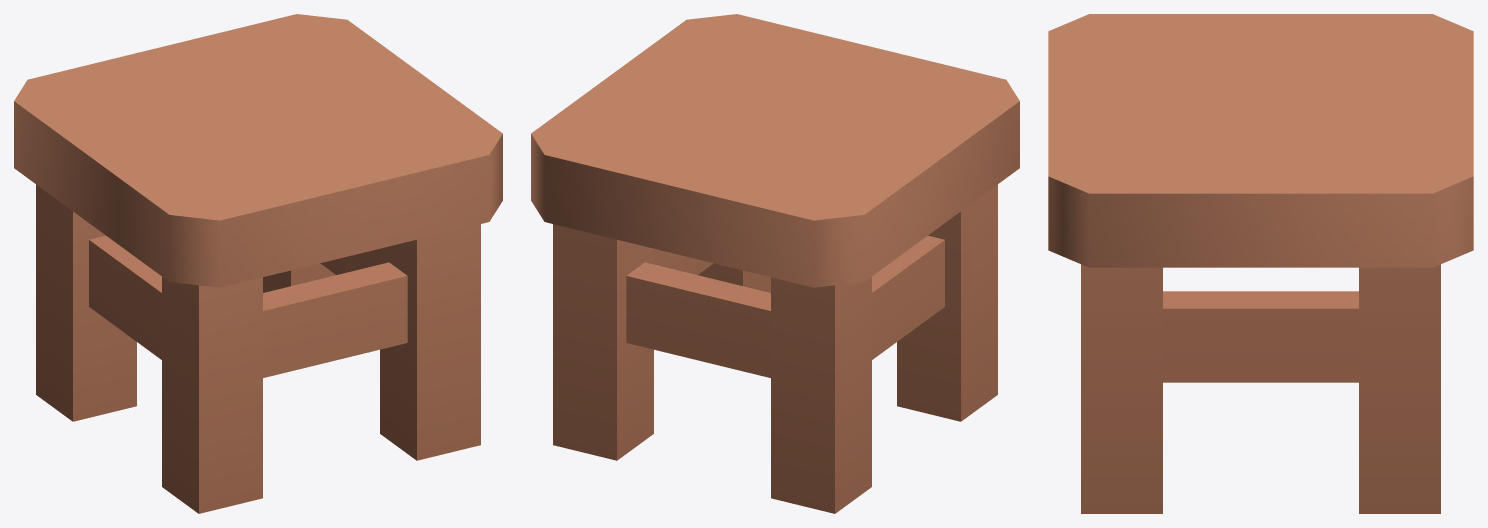
File: stall-stool.glb
The picture shows the model from 3 angles, left to right: view 1: azimuth 30°, elevation 25°; view 2: azimuth 150°, elevation 25°; view 3: azimuth 270°, elevation 25°; orthographic projection. The views are drawn at different scales.
Parts seen in each view (by area): view 1: stall-stool; view 2: stall-stool; view 3: stall-stool.
Boxes of the visible parts, <box> form: stall-stool: <box>14,14,502,513</box>; stall-stool: <box>531,14,1019,513</box>; stall-stool: <box>1048,14,1473,513</box>.
Size of the model in its own units: 0.26 by 0.2255 by 0.26.
1 material, 1 textured.
